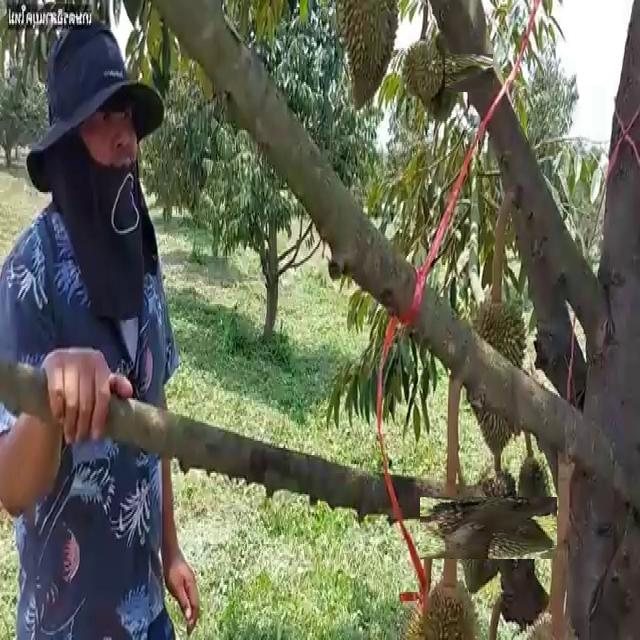durian: (462, 293, 529, 457), (438, 478, 538, 578), (331, 0, 402, 111), (409, 38, 478, 107), (413, 575, 483, 638), (512, 450, 552, 549), (401, 35, 445, 100)
